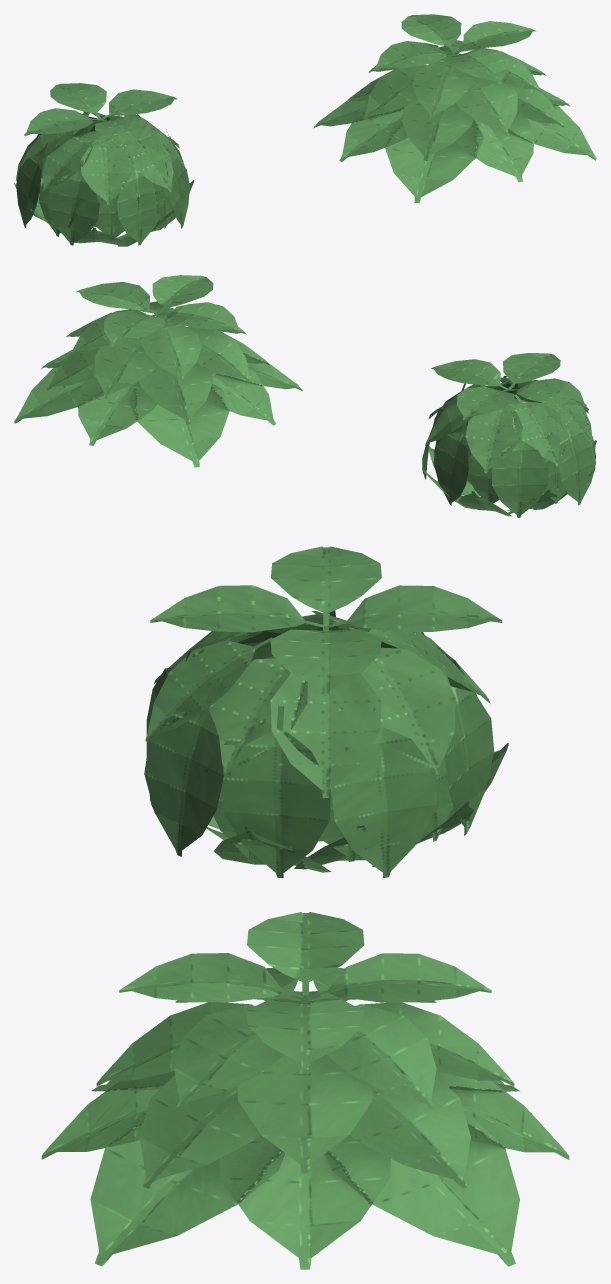
File: test_Bushes.fbx
3 views of the same model, one above another, from view 1: azimuth 30°, elevation 25°; view 2: azimuth 150°, elevation 25°; view 3: azimuth 270°, elevation 25° (orthographic). The views are drawn at different scales.
Visible parts, largest first — view 1: Arbusto_Pablo_1, Arbusto_Pablo_2; view 2: Arbusto_Pablo_1, Arbusto_Pablo_2; view 3: Arbusto_Pablo_1, Arbusto_Pablo_2.
Part boxes in pixels (x1,y1,x2,y2): Arbusto_Pablo_1: (313, 14, 596, 203); Arbusto_Pablo_2: (14, 83, 194, 246); Arbusto_Pablo_1: (14, 275, 302, 467); Arbusto_Pablo_2: (422, 353, 596, 517); Arbusto_Pablo_1: (41, 912, 569, 1269); Arbusto_Pablo_2: (144, 546, 508, 877).
Bounding box in the file's own units: 3102 × 665 × 1314.
